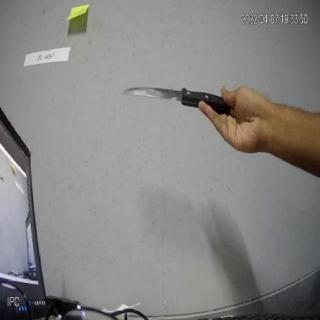knife: (119, 71, 235, 119)
